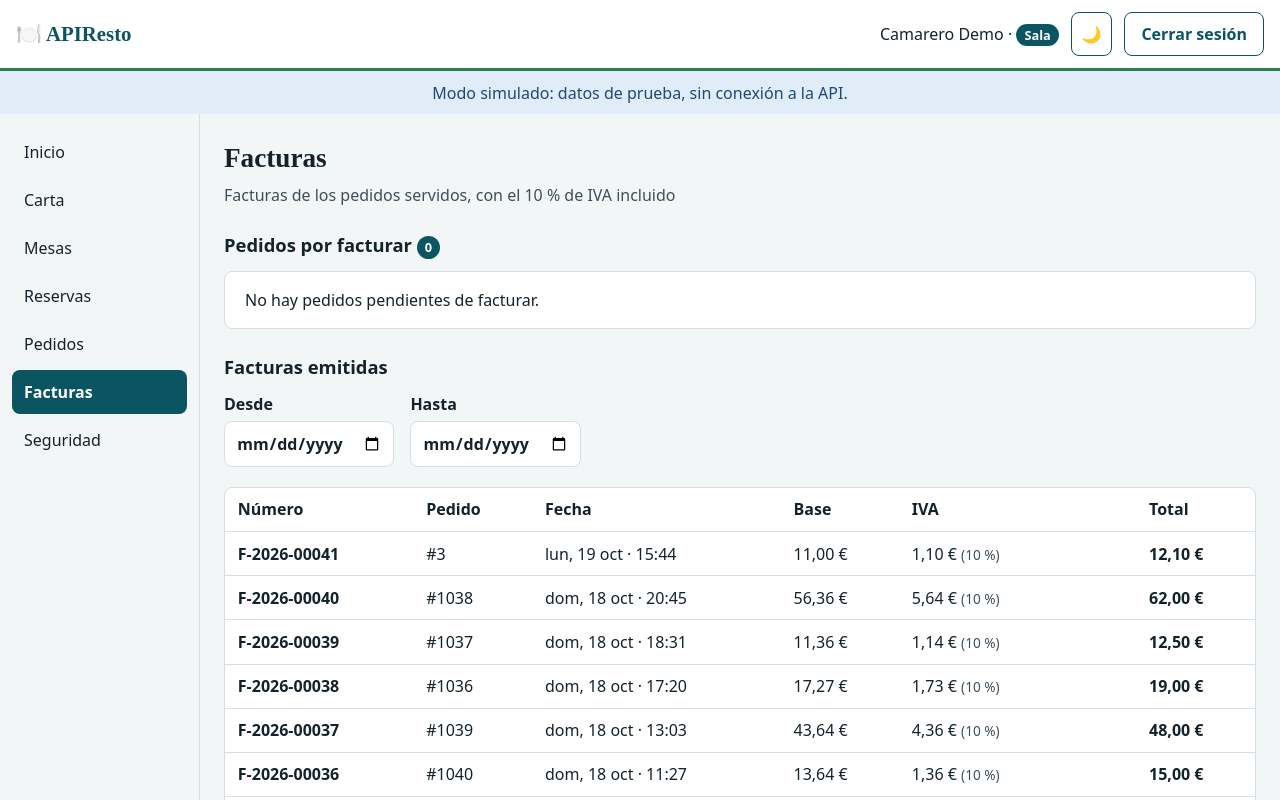
Test case: Facturas (HU-14) › filtra las facturas por fecha
The width and height of the screenshot is (1280, 800).
Type "2000-01-01" into the date field labelled "Desde" at (309, 444), box [224,421,394,467]
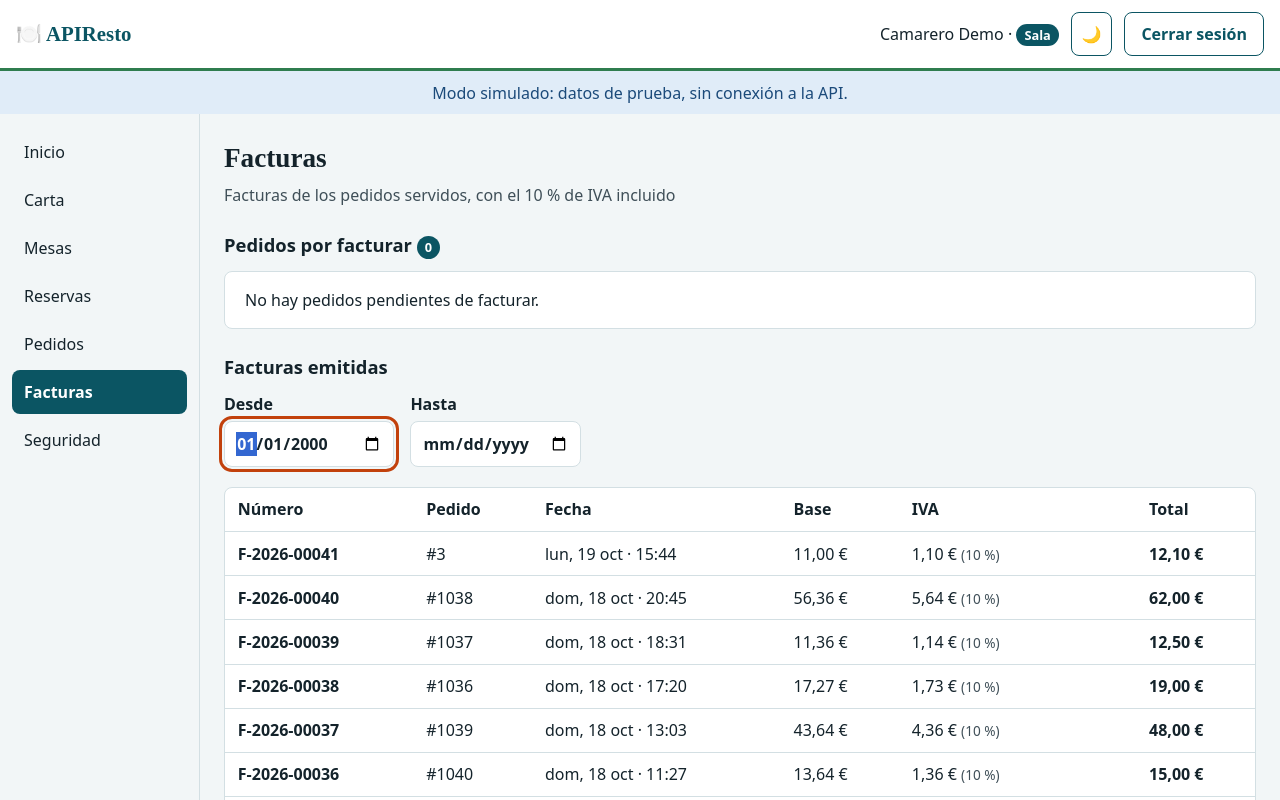
Type "2000-01-31" into the date field labelled "Hasta" at (496, 444), box [410,421,581,467]
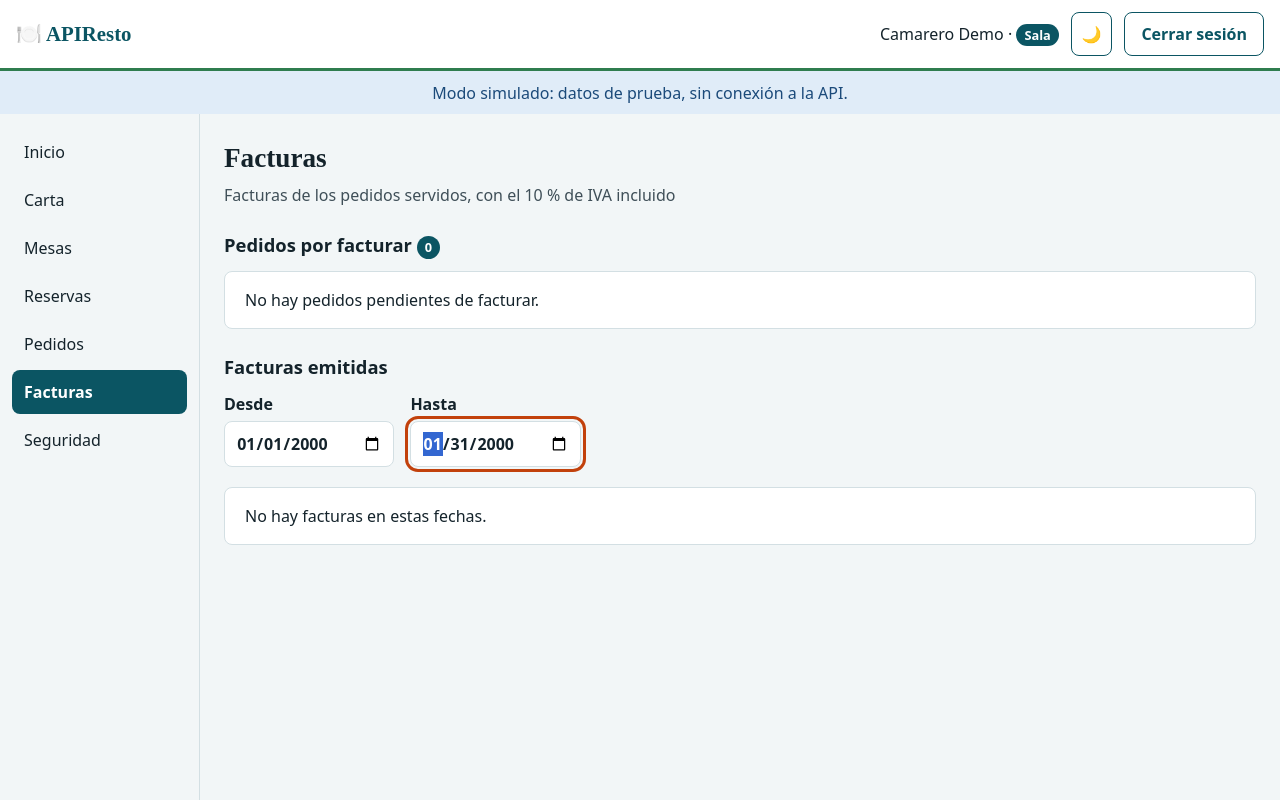
Expected: the text "No hay facturas en estas fechas." is shown, [224,487,1256,545]
